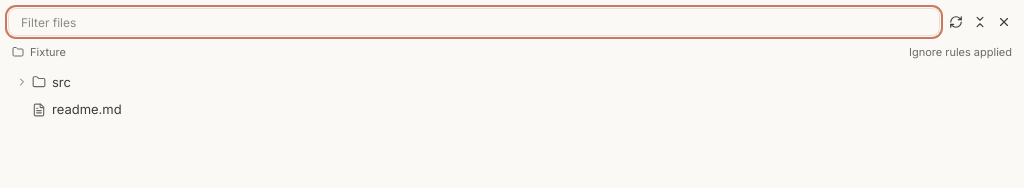
Test case: shows diagnostics for an empty resultLimit search
Expected: the list item "readme.md" is shown, top-left (32, 101), bottom-right (122, 117)
Type "none" into the field labelled "Filter files". click: (474, 22)
box: top-left (8, 8), bottom-right (940, 36)
Wait 250 ms
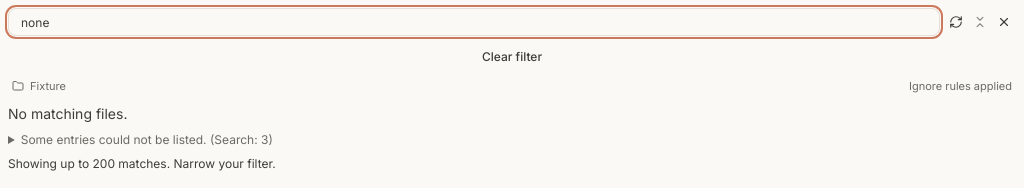
Now the text "No matching files." is shown, box top-left (8, 104), bottom-right (128, 122)
Now the heading "Some entries could not be listed. (Search: 3)" is shown, box top-left (21, 132), bottom-right (273, 146)
Now the button named "Collapse all" is disabled, box top-left (968, 10), bottom-right (992, 34)
